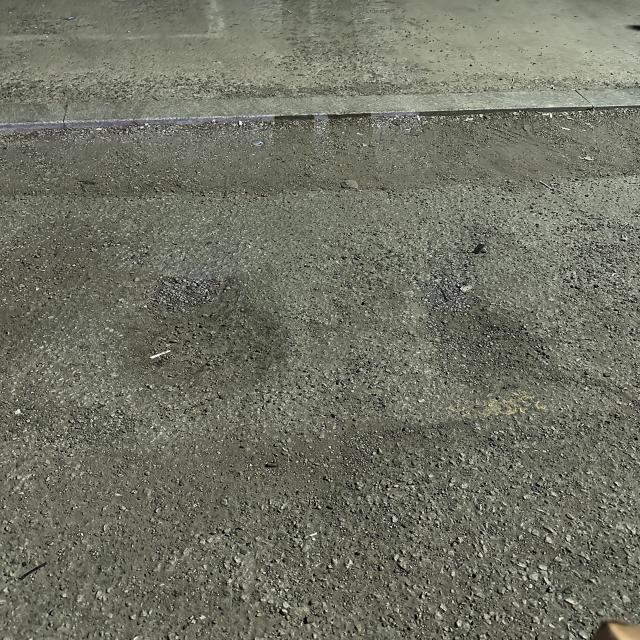pothole: (104, 273, 318, 411), (404, 282, 562, 398)
